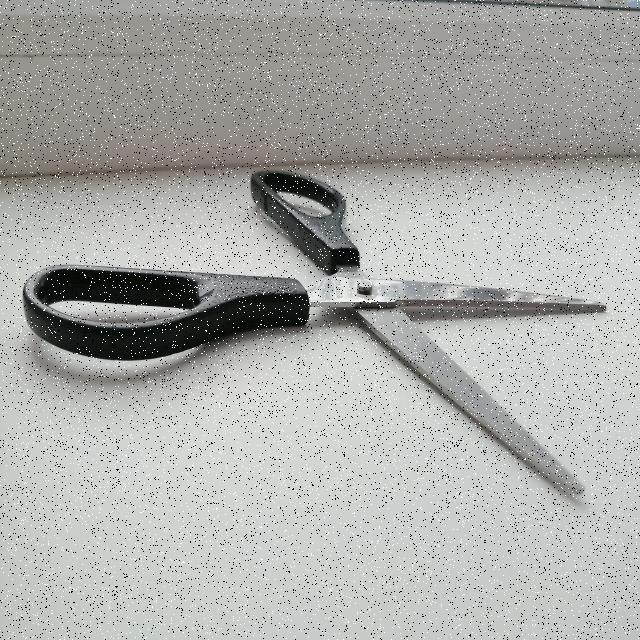scissors: (17, 160, 613, 510)
